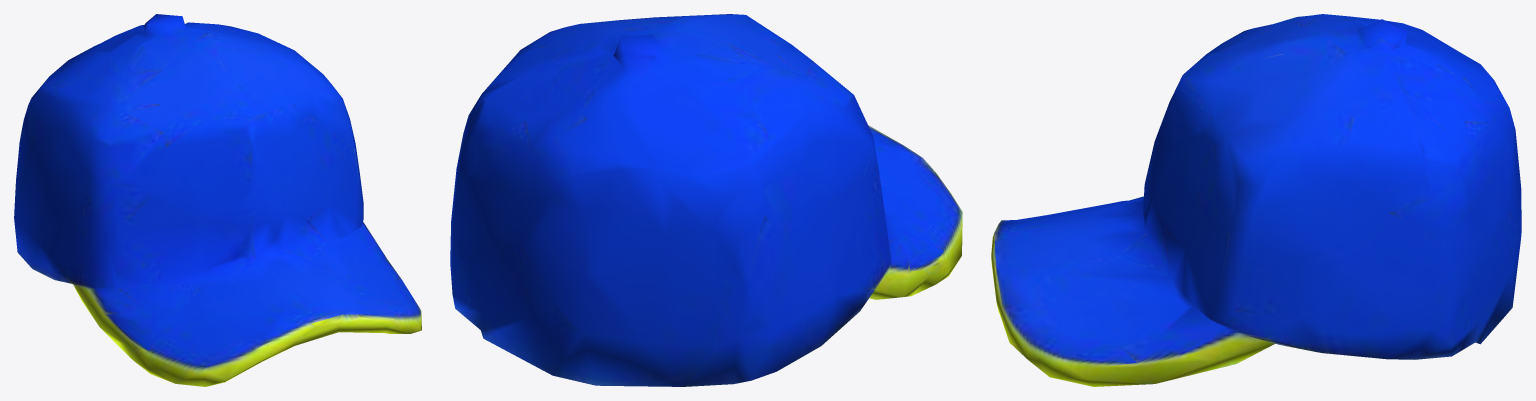
The model's file is bone.glb.
3 views of the same model, side by side, from view 1: azimuth 30°, elevation 25°; view 2: azimuth 150°, elevation 25°; view 3: azimuth 270°, elevation 25° (orthographic). The views are drawn at different scales.
Parts seen in each view (by area): view 1: tripo_node_0d4c67a3-b29b-4b72-8b43-d2bfaa5a3dc6; view 2: tripo_node_0d4c67a3-b29b-4b72-8b43-d2bfaa5a3dc6; view 3: tripo_node_0d4c67a3-b29b-4b72-8b43-d2bfaa5a3dc6.
Part boxes in pixels (x1,y1,x2,y2): tripo_node_0d4c67a3-b29b-4b72-8b43-d2bfaa5a3dc6: [14, 14, 421, 386]; tripo_node_0d4c67a3-b29b-4b72-8b43-d2bfaa5a3dc6: [450, 14, 962, 386]; tripo_node_0d4c67a3-b29b-4b72-8b43-d2bfaa5a3dc6: [991, 14, 1521, 386].
Size of the model in its own units: 0.7373 by 0.5923 by 1.
Materials: 1 (1 with a texture image).
